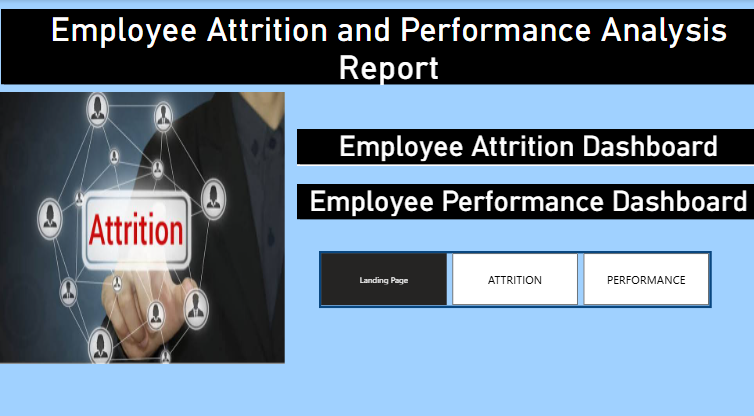

This screenshot's page, from the dashboard's own definition file:
{"tool":"powerbi","page":{"name":"Landing Page","canvas":[1280,720],"ordinal":0},"visuals":[{"type":"textbox","title":"Employee Attrition and Performance Analysis Report","box":[1.7,15.1,1278.3,124.3],"z":0},{"type":"image","box":[0,151.6,469.5,448.1],"z":1000},{"type":"textbox","title":"Employee Attrition Dashboard","box":[489.3,212.5,762.7,61],"z":2000},{"type":"textbox","title":"Employee Performance Dashboard","box":[489.3,303.1,762.7,57.7],"z":3000},{"type":"pageNavigator","box":[525.5,413.5,647.4,93.9],"z":4000}]}

Visuals, with their boxes in screenshot pixels (x1, y1, x2, y2), scaled from the page's 1280x720 canvas onto the 754x416 screenshot:
"Employee Attrition and Performance Analysis Report" textbox: region(1, 9, 753, 81)
image: region(0, 88, 277, 346)
"Employee Attrition Dashboard" textbox: region(288, 123, 738, 158)
"Employee Performance Dashboard" textbox: region(288, 175, 738, 208)
pageNavigator: region(310, 239, 691, 293)
